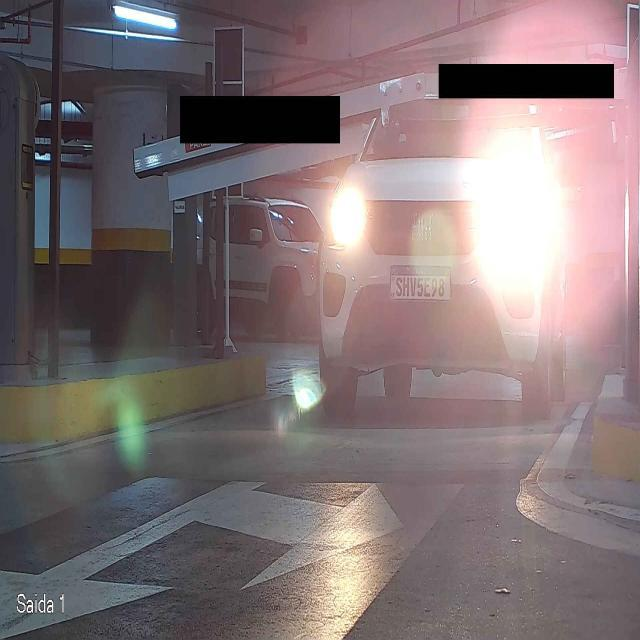mercosul_plate: (388, 264, 452, 304)
